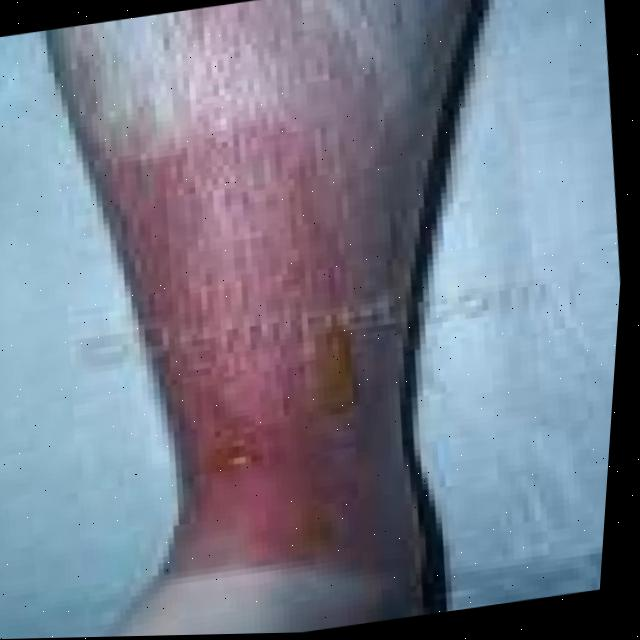Melasma: (54, 100, 446, 627)
